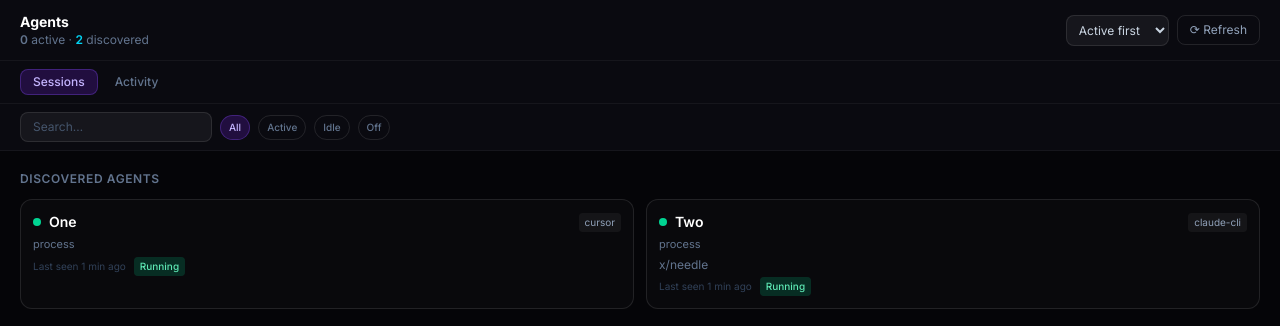
Test case: AgentsView — discovered agents › searches name, kind and working directory
Type "cursor" into the field with placeholder "Search…" at (116, 127), box [20,112,212,142]
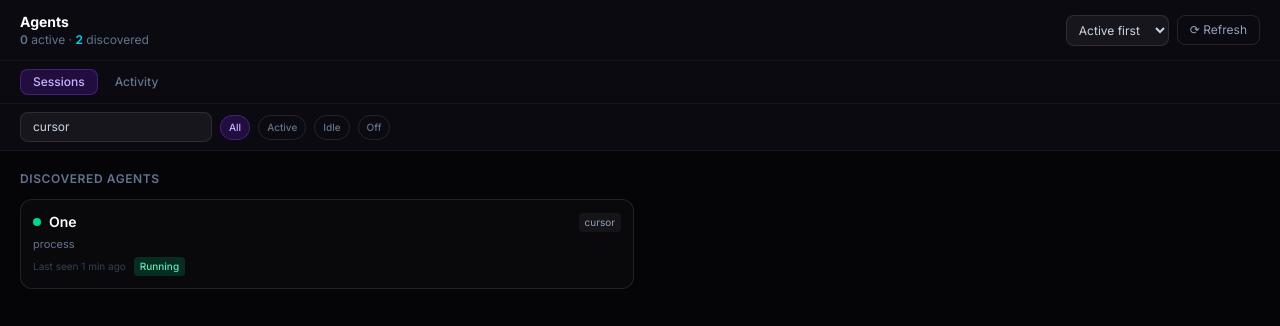
Check: the text "One" is shown, box [49,212,77,232]
Check: the text "Two" is gone
Replace the text in the field with placeholder "Search…" with "needle" at (116, 127), box [20,112,212,142]
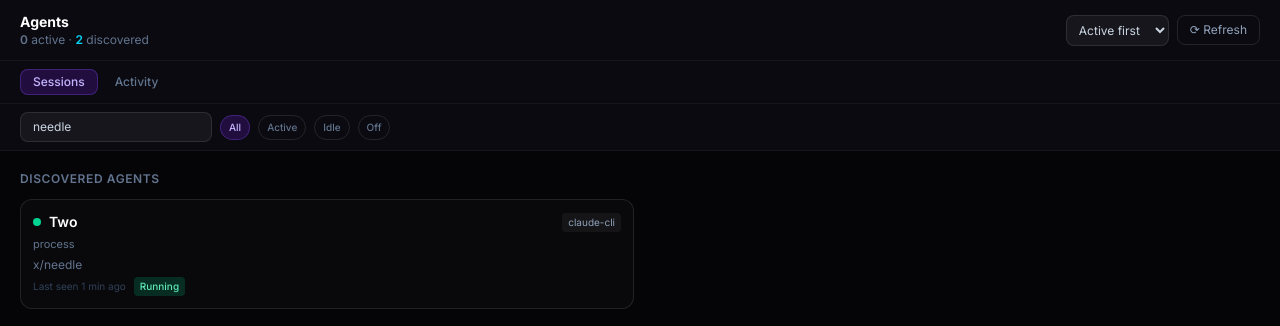
Check: the text "Two" is shown, box [49,212,77,232]
